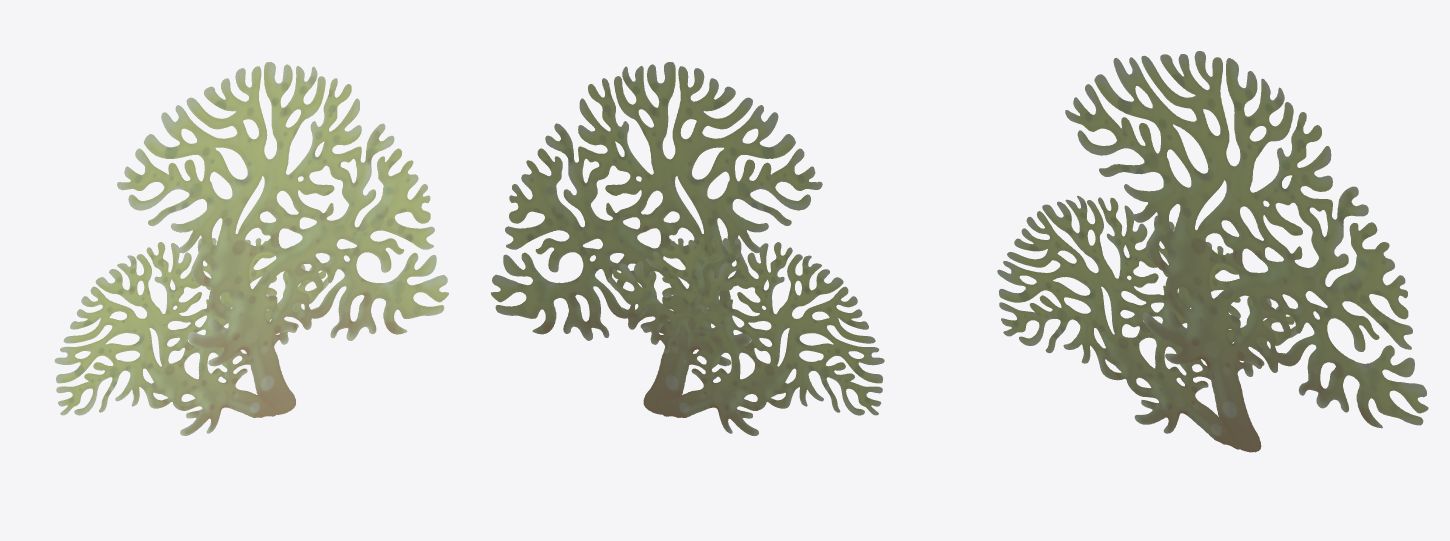
Rendered from Coral_41b.FBX.
3 renders of one model, left to right at view 1: azimuth 30°, elevation 25°; view 2: azimuth 150°, elevation 25°; view 3: azimuth 330°, elevation 25°, orthographic. The views are drawn at different scales.
Parts seen in each view (by area): view 1: Coral_41b; view 2: Coral_41b; view 3: Coral_41b.
Boxes of the visible parts, x1,y1,x2,y2 form: Coral_41b: (54,62,448,435); Coral_41b: (491,62,884,435); Coral_41b: (997,51,1428,452).
Bounding box in the file's own units: 65.34 × 63.52 × 0.0556.
